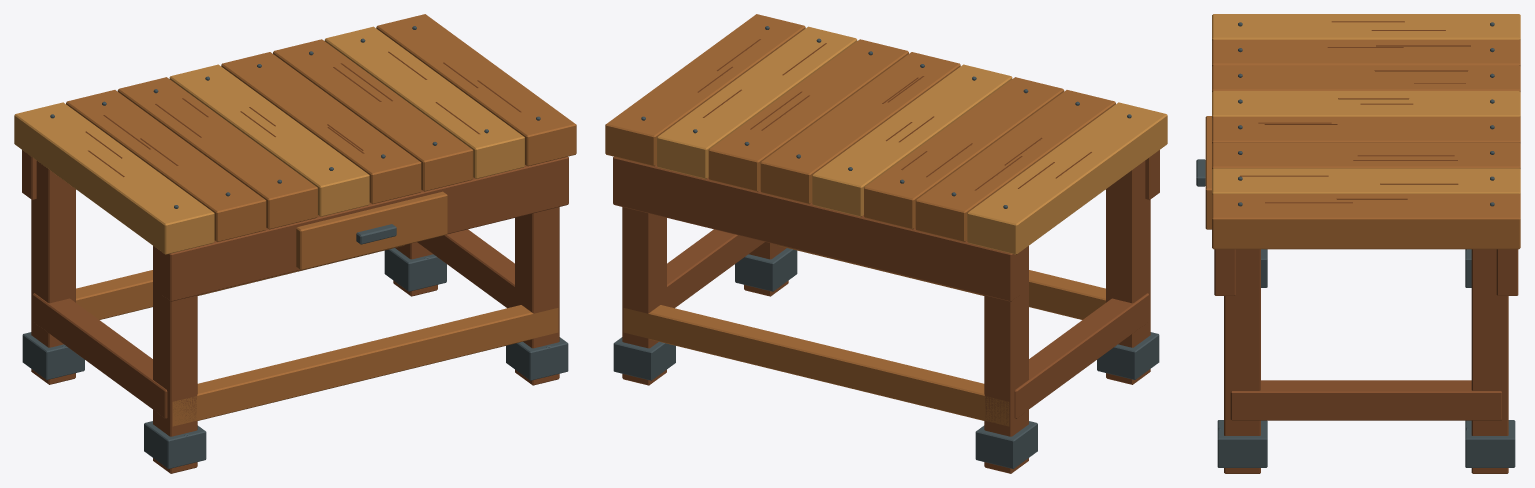
File: navigation_table.glb
3 views of the same model, side by side, from view 1: azimuth 30°, elevation 25°; view 2: azimuth 150°, elevation 25°; view 3: azimuth 270°, elevation 25° (orthographic).
Visible parts, largest first — view 1: navigation_table__body__oak2, navigation_table__body__oak, navigation_table__body__oak3, navigation_table__body__metal, navigation_table__drawer__oak2, navigation_table__body__grain; view 2: navigation_table__body__oak2, navigation_table__body__oak, navigation_table__body__oak3, navigation_table__body__metal, navigation_table__body__grain; view 3: navigation_table__body__oak2, navigation_table__body__oak, navigation_table__body__oak3, navigation_table__body__metal, navigation_table__body__grain, navigation_table__drawer__oak2.
Boxes of the visible parts, left/top/right/bottom form: navigation_table__body__oak2: left=66, top=14, right=576, bottom=426; navigation_table__body__oak: left=22, top=150, right=568, bottom=473; navigation_table__body__oak3: left=14, top=26, right=524, bottom=254; navigation_table__body__metal: left=22, top=26, right=568, bottom=468; navigation_table__drawer__oak2: left=296, top=191, right=447, bottom=270; navigation_table__body__grain: left=85, top=51, right=521, bottom=176; navigation_table__body__oak2: left=605, top=14, right=1115, bottom=426; navigation_table__body__oak: left=613, top=150, right=1159, bottom=473; navigation_table__body__oak3: left=657, top=26, right=1167, bottom=254; navigation_table__body__metal: left=613, top=26, right=1159, bottom=468; navigation_table__body__grain: left=697, top=39, right=1091, bottom=190; navigation_table__body__oak2: left=1212, top=39, right=1520, bottom=249; navigation_table__body__oak: left=1214, top=249, right=1518, bottom=473; navigation_table__body__oak3: left=1212, top=14, right=1520, bottom=194; navigation_table__body__metal: left=1217, top=22, right=1515, bottom=467; navigation_table__body__grain: left=1240, top=21, right=1470, bottom=203; navigation_table__drawer__oak2: left=1205, top=116, right=1211, bottom=229.
Bounding box in the file's own units: 2.23 × 1.35 × 1.49.
